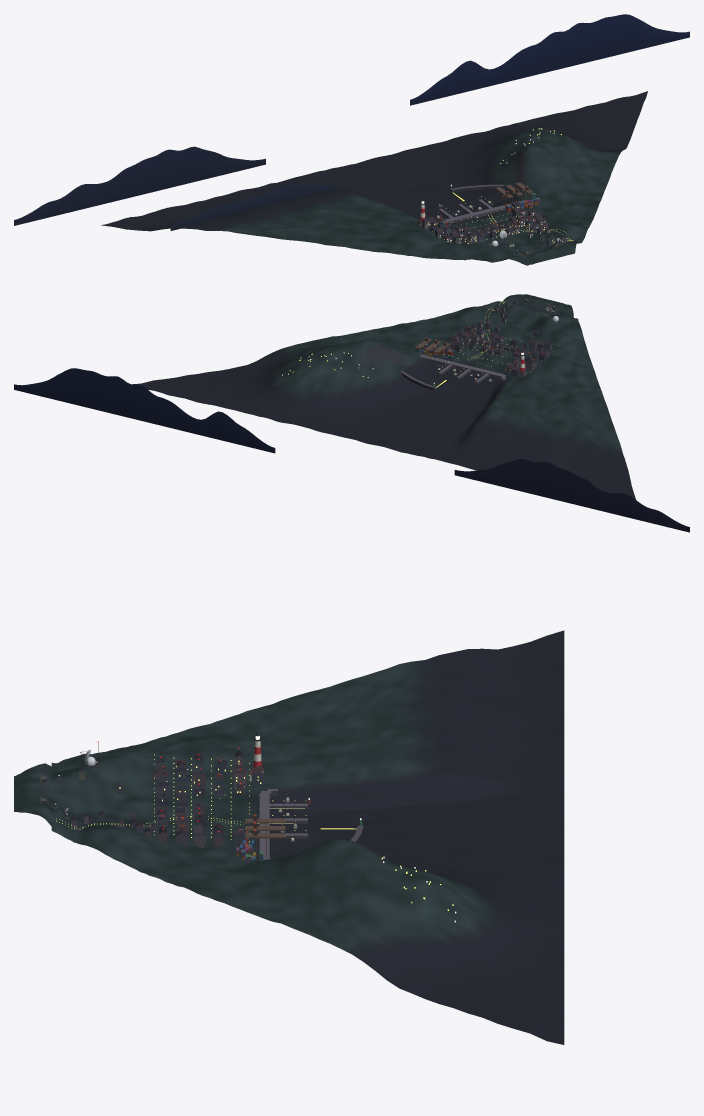
File: night_coast.glb
3 renders of one model, top to bottom at view 1: azimuth 30°, elevation 25°; view 2: azimuth 150°, elevation 25°; view 3: azimuth 270°, elevation 25°, orthographic. The views are drawn at different scales.
Parts seen in each view (by area): view 1: land, far_ridges, city_blocks, harbour_quays, fg_crest; view 2: land, far_ridges, city_blocks, harbour_quays, fg_crest; view 3: land, city_blocks, harbour_quays, fg_crest.
Boxes of the visible parts, bbox=[...] form: land: bbox=[101, 91, 647, 262]; far_ridges: bbox=[14, 14, 689, 230]; city_blocks: bbox=[417, 201, 568, 245]; harbour_quays: bbox=[438, 182, 540, 223]; fg_crest: bbox=[501, 242, 577, 265]; land: bbox=[133, 301, 635, 499]; far_ridges: bbox=[14, 352, 689, 532]; city_blocks: bbox=[443, 306, 552, 377]; harbour_quays: bbox=[400, 337, 506, 390]; fg_crest: bbox=[502, 294, 573, 317]; land: bbox=[51, 630, 564, 1044]; city_blocks: bbox=[71, 751, 264, 847]; harbour_quays: bbox=[236, 789, 363, 862]; fg_crest: bbox=[14, 763, 51, 825].
Size of the model in its own units: 500 by 34.27 by 269.
